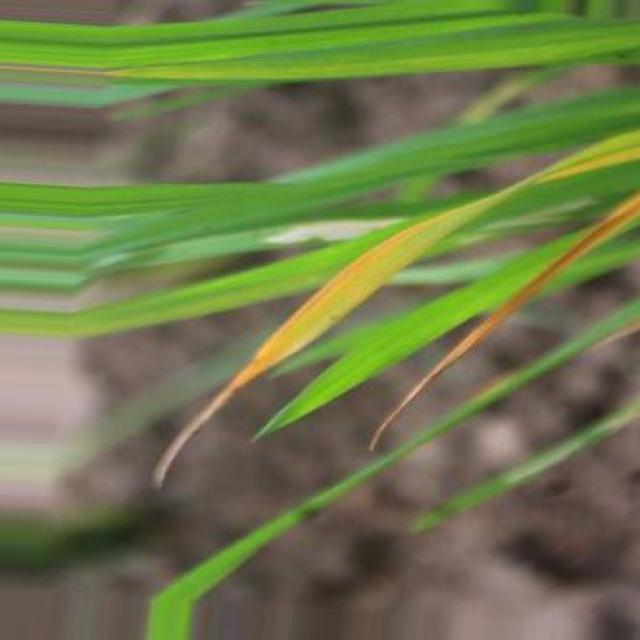Rice Tungro: (153, 178, 532, 487), (370, 194, 639, 449)
